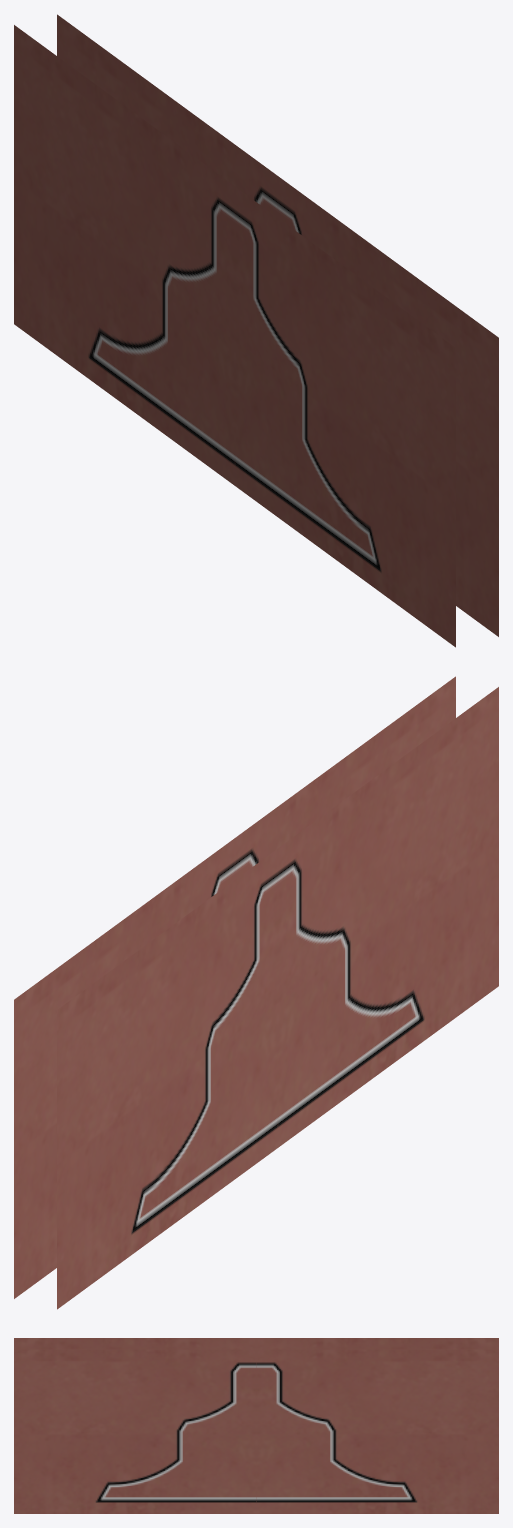
Rendered from SM_Hwaban01B.fbx.
3 views of the same model, one above another, from view 1: azimuth 30°, elevation 25°; view 2: azimuth 150°, elevation 25°; view 3: azimuth 270°, elevation 25° (orthographic). The views are drawn at different scales.
Visible parts, largest first — view 1: SM_Hwaban01B; view 2: SM_Hwaban01B; view 3: SM_Hwaban01B.
Boxes of the visible parts, x1=… form: SM_Hwaban01B: x1=14, y1=14, x2=498, y2=647; SM_Hwaban01B: x1=14, y1=676, x2=498, y2=1309; SM_Hwaban01B: x1=14, y1=1338, x2=498, y2=1513.
Size of the model in its own units: 7.9 by 141 by 52.71.
1 material, 1 textured.
